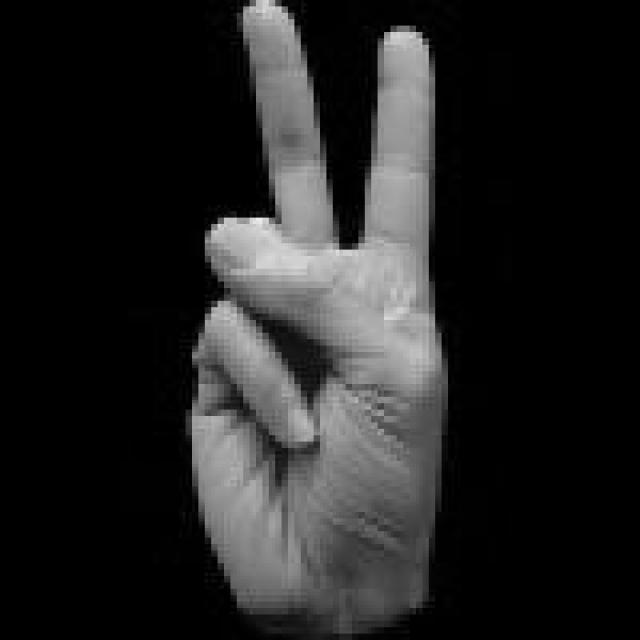V: (185, 0, 458, 640)
